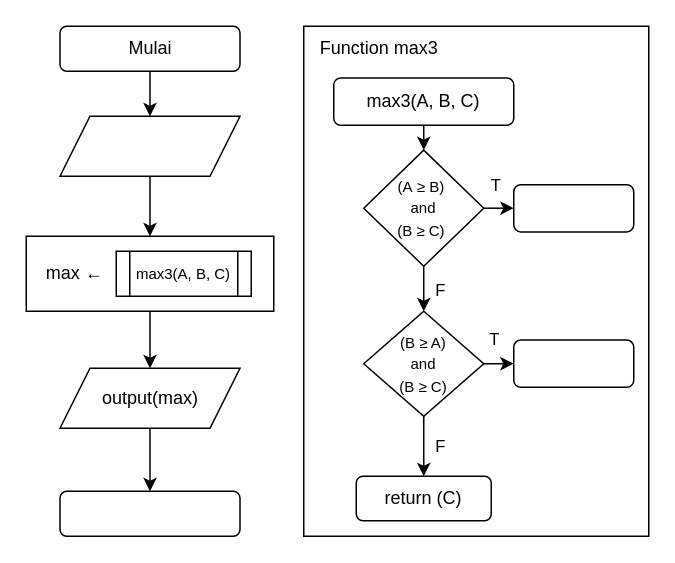
Image size: 675x563. Some labels were removed from this diagram. Here are the shapes that lost their labels. From the top down, the centre of each, then its label:
At (x=149, y=145): "input(A, B, C)".
At (x=573, y=207): "return (A)".
At (x=573, y=363): "return (B)".
At (x=149, y=513): "Selesai".
